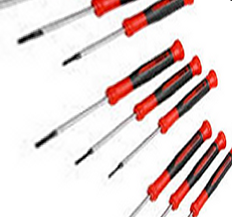Screwdriver: (25, 39, 232, 214)
